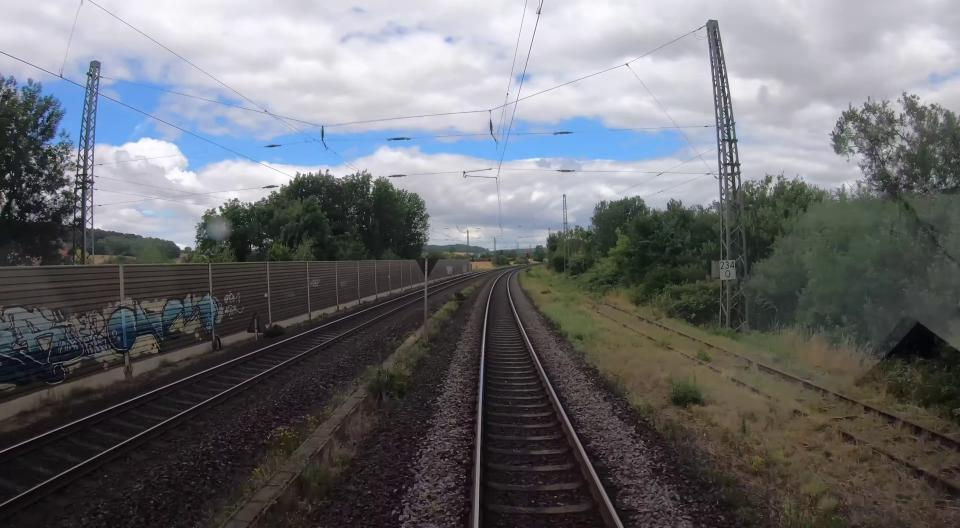Plant: (259, 300, 458, 527), (223, 380, 358, 518), (460, 286, 476, 298)
